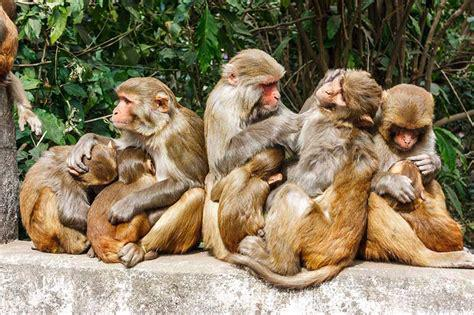monkey: (215, 70, 380, 290), (68, 78, 203, 266), (356, 85, 474, 268), (204, 50, 303, 176), (19, 141, 116, 253), (87, 145, 154, 263), (212, 146, 285, 254)
